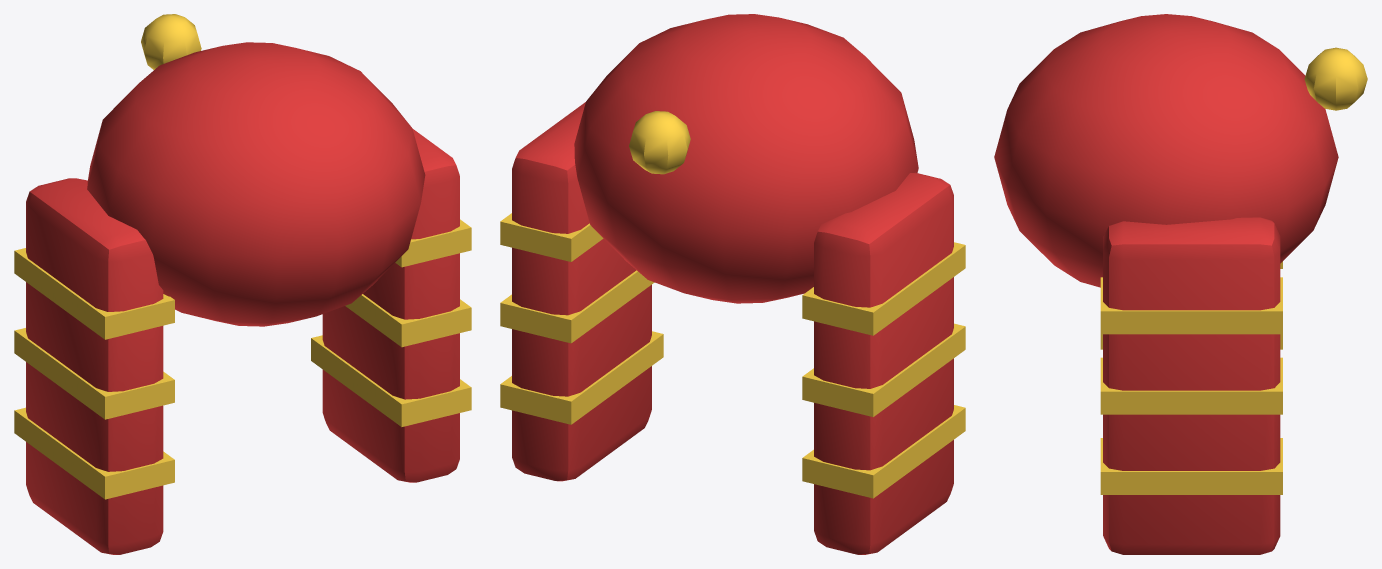
The model's file is AccNemes.fbx.
The picture shows the model from 3 angles, left to right: view 1: azimuth 30°, elevation 25°; view 2: azimuth 150°, elevation 25°; view 3: azimuth 270°, elevation 25°; orthographic projection.
Visible parts, largest first — view 1: AccNemes; view 2: AccNemes; view 3: AccNemes.
Part boxes in pixels (x1=…): AccNemes: x1=14, y1=14, x2=471, y2=554; AccNemes: x1=500, y1=14, x2=965, y2=554; AccNemes: x1=994, y1=14, x2=1367, y2=554.
Bounding box in the file's own units: 168 × 192 × 147.
